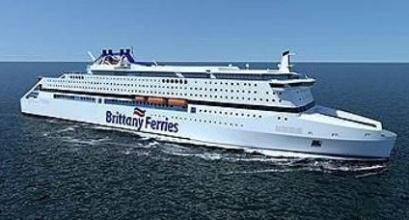youlun: (14, 43, 397, 166)
